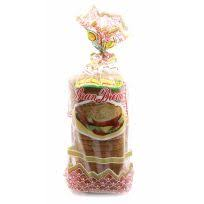bread: (65, 11, 141, 194)
